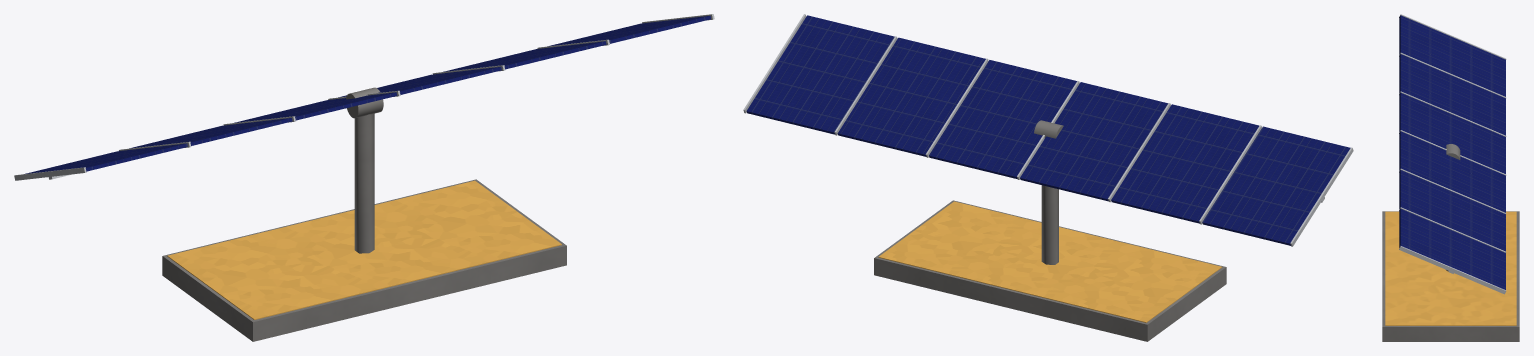
File: rover28_solar_mount_m_deployed.glb
The picture shows the model from 3 angles, left to right: view 1: azimuth 30°, elevation 25°; view 2: azimuth 150°, elevation 25°; view 3: azimuth 270°, elevation 25°; orthographic projection. The views are drawn at different scales.
Visible parts, largest first — view 1: base_foil, base, panel_wing, mast, panel_frames; view 2: panel_wing, base_foil, base, panel_frames, mast; view 3: panel_wing, base_foil, base, panel_frames, mast.
Part boxes in pixels (x1,y1,x2,y2): base_foil: (167,180,561,319); base: (162,179,566,341); panel_wing: (25,16,710,173); mast: (346,87,383,253); panel_frames: (14,14,714,180); panel_wing: (746,15,1350,245); base_foil: (878,201,1222,322); base: (874,200,1226,341); panel_frames: (743,14,1353,246); mast: (1034,120,1063,264); panel_wing: (1399,15,1505,289); base_foil: (1385,211,1516,325); base: (1382,211,1519,341); panel_frames: (1399,14,1506,294); mast: (1446,144,1460,271).
Bounding box in the file's own units: 4.01 × 1.24 × 1.
4 materials, 4 textured.
